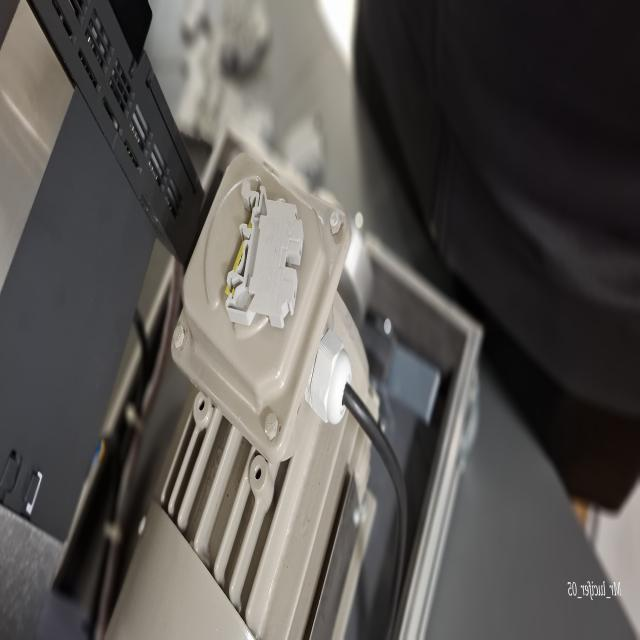Inverted: (218, 174, 308, 342)
